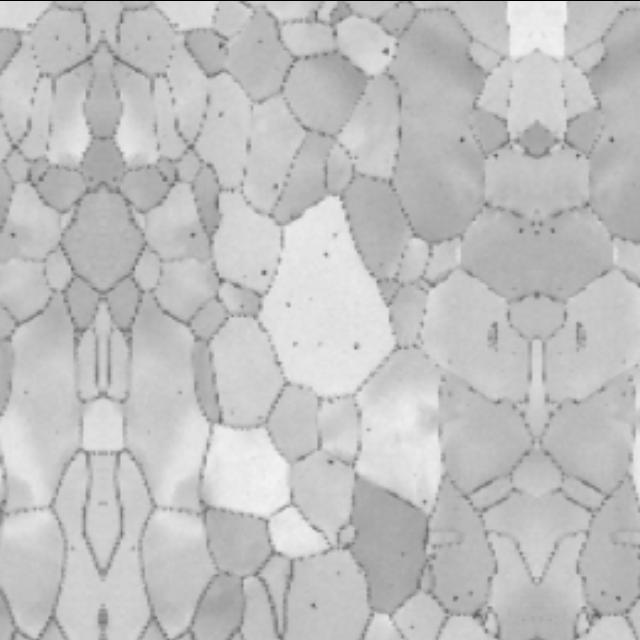good_void: (325, 457, 340, 468), (320, 247, 334, 258), (450, 591, 462, 603), (614, 591, 626, 603), (284, 297, 297, 308), (354, 340, 364, 354), (381, 47, 395, 56), (308, 600, 322, 609), (288, 339, 302, 347), (190, 228, 200, 238), (6, 228, 16, 238), (258, 267, 268, 275), (459, 134, 470, 141), (606, 134, 617, 141), (329, 231, 341, 237), (366, 424, 374, 433), (217, 111, 227, 118), (493, 153, 501, 161), (420, 497, 428, 505), (274, 181, 282, 189), (575, 153, 583, 161), (219, 40, 226, 49)
